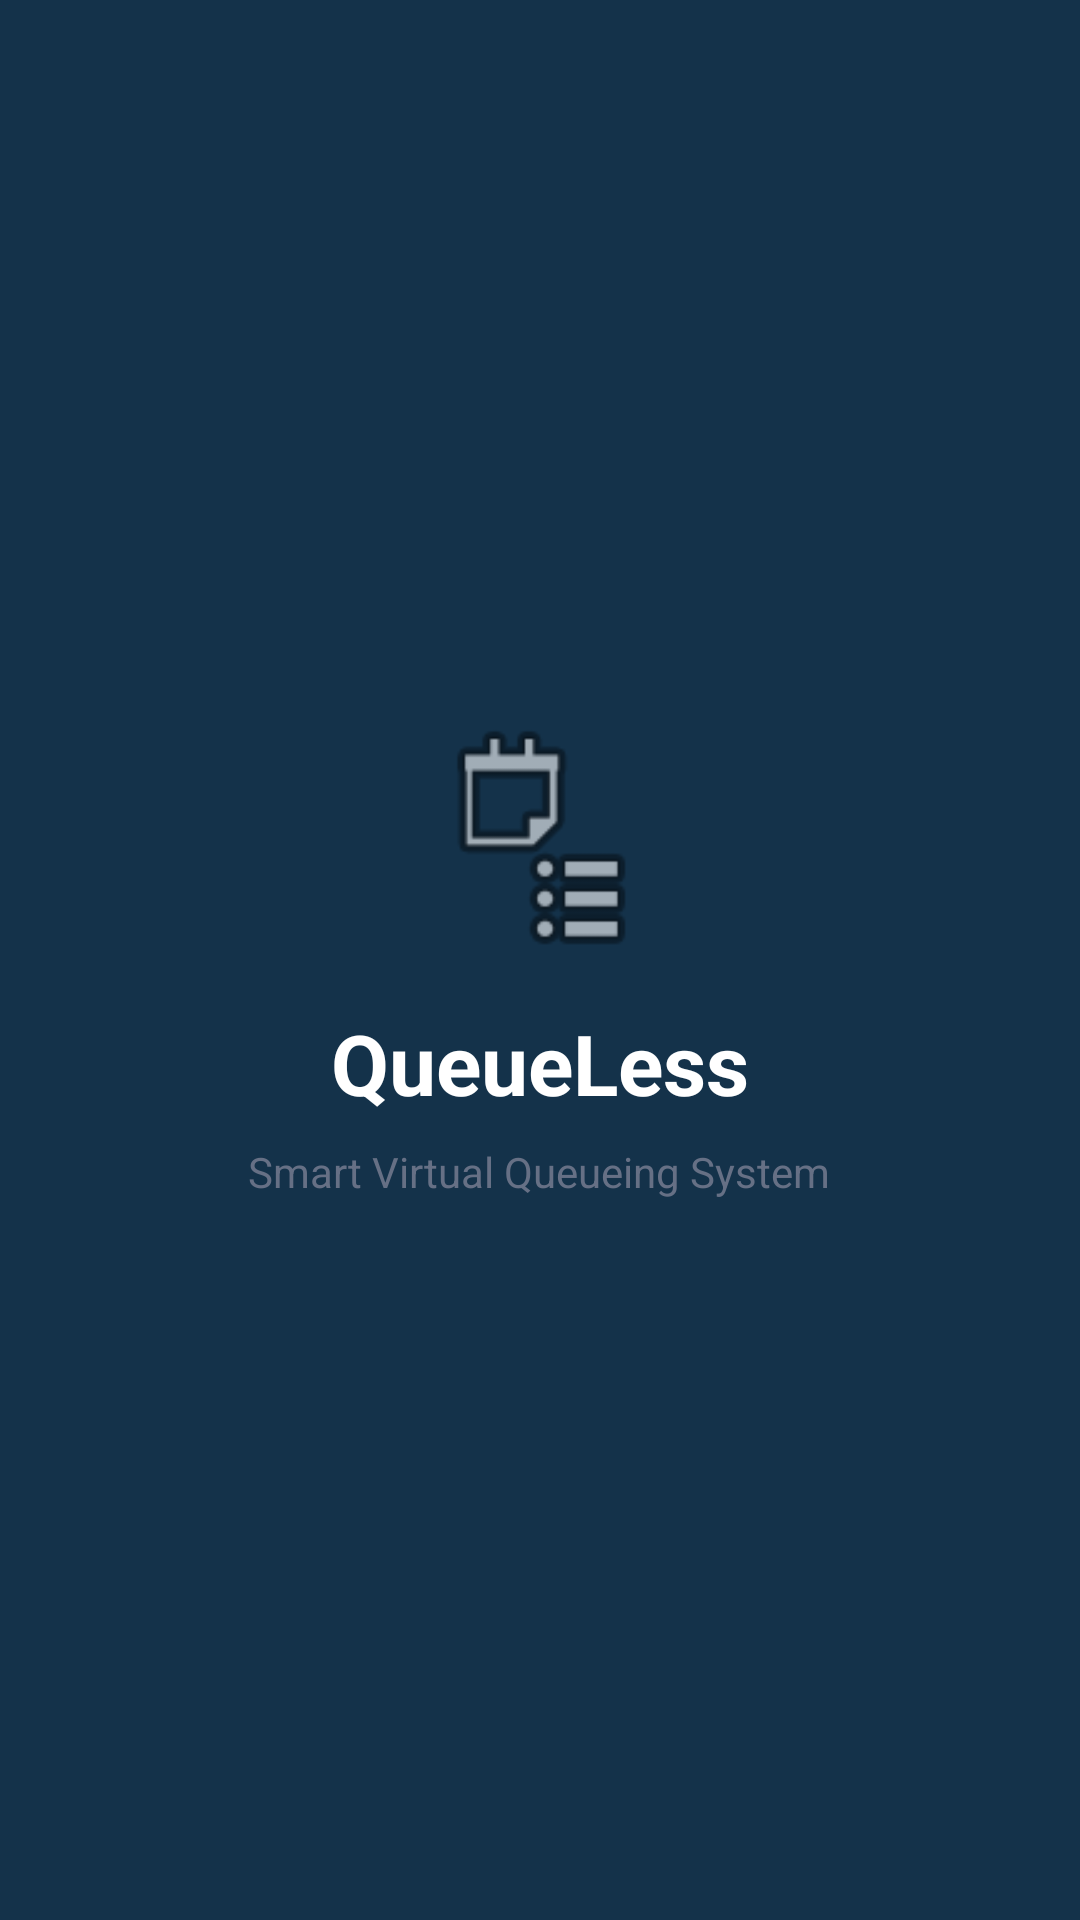

Named icons in this screenshot (1080px x 1920px) and their bounding boxes, {"x1": x1, "y1": y1, "x2": x2, "y2": y2}:
agenda: {"x1": 458, "y1": 732, "x2": 624, "y2": 943}
